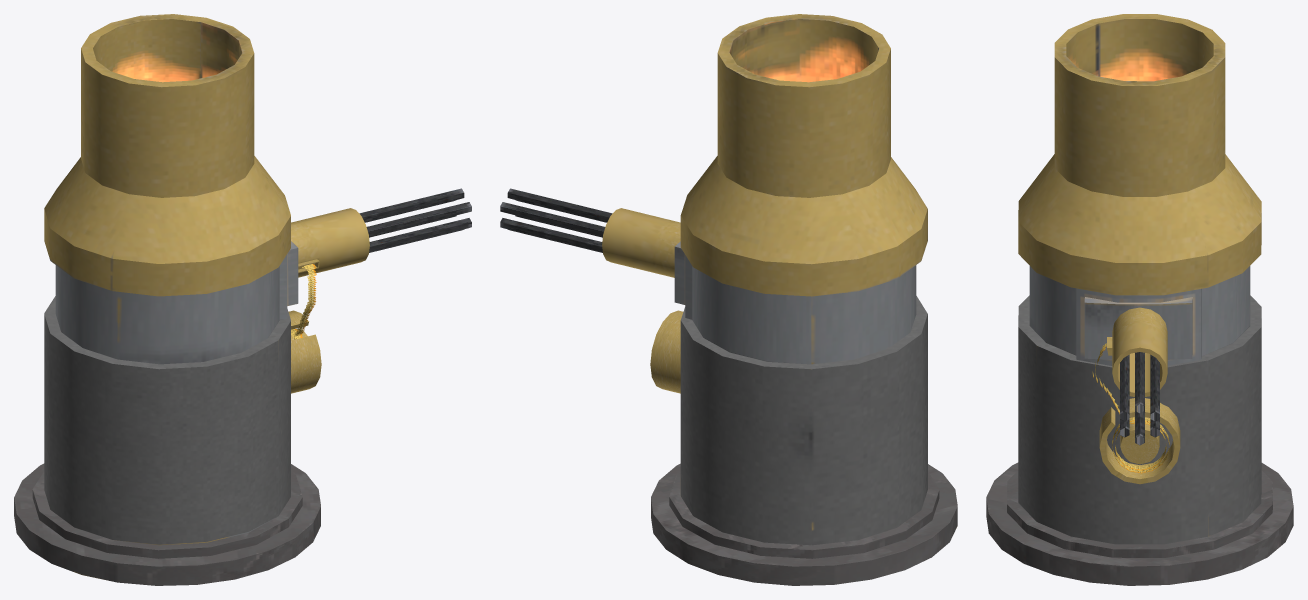
Rendered from Gatling.fbx.
3 views of the same model, side by side, from view 1: azimuth 30°, elevation 25°; view 2: azimuth 150°, elevation 25°; view 3: azimuth 270°, elevation 25° (orthographic).
Parts seen in each view (by area): view 1: Gatling; view 2: Gatling; view 3: Gatling.
Part boxes in pixels (<box>): Gatling: <box>14,14,471,585</box>; Gatling: <box>500,14,957,585</box>; Gatling: <box>986,14,1293,585</box>.
Size of the model in its own units: 0.4557 by 0.4798 by 0.2837.
2 materials, 2 textured.
